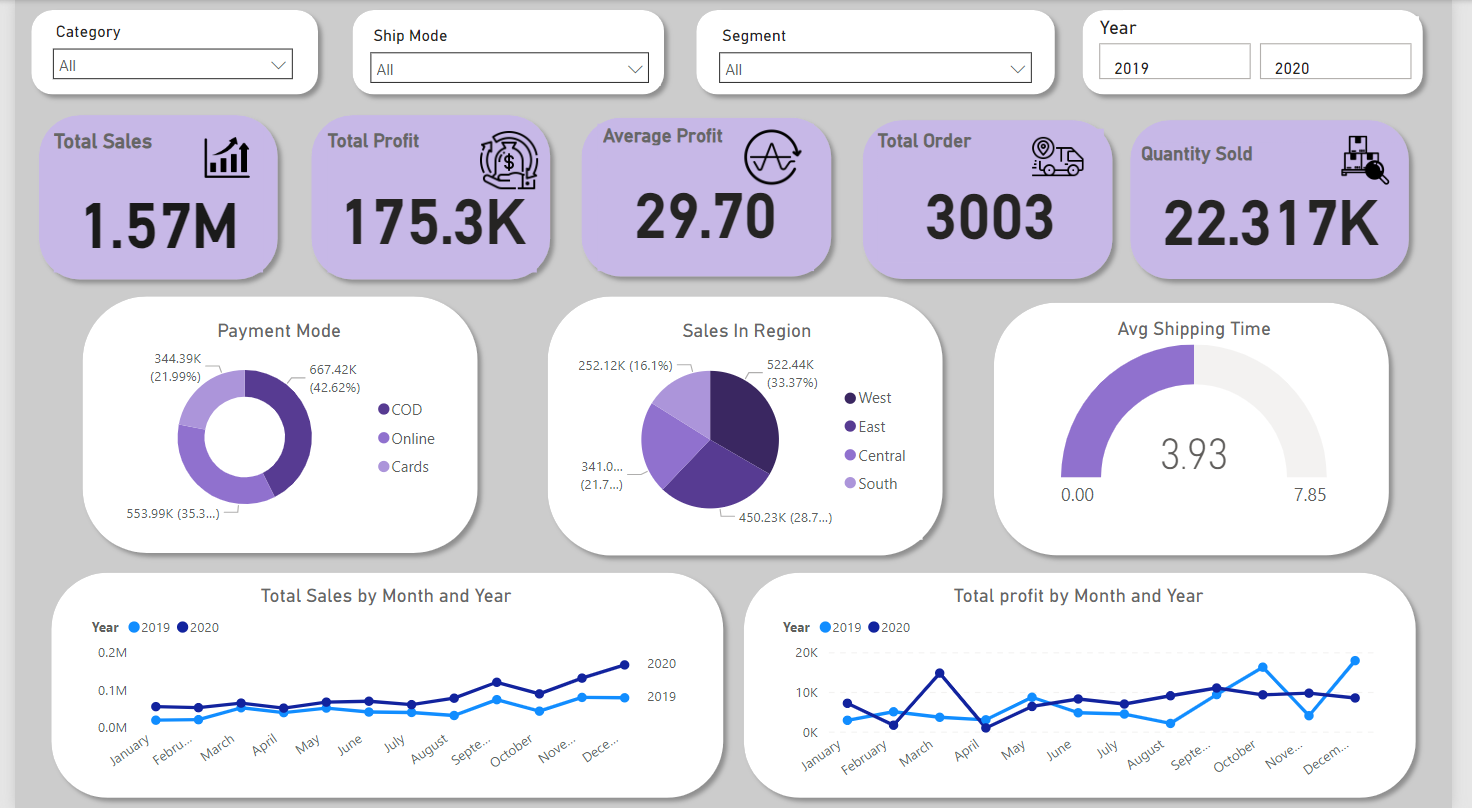

The dashboard page shown, as its layout file describes it:
{"tool":"powerbi","page":{"name":"dashboard ","canvas":[1280,720],"ordinal":0},"visuals":[{"type":"shape","box":[639.5,501.2,616.3,218.6],"z":0},{"type":"shape","box":[23.3,501.2,616.3,218.6],"z":1000},{"type":"shape","box":[862.8,260.5,369.8,243],"z":2000},{"type":"shape","box":[465.1,254.7,369.8,248.8],"z":3000},{"type":"shape","box":[51.2,254.7,369.8,246.5],"z":4000},{"type":"shape","box":[255.2,93.3,230.7,164.4],"z":5000},{"type":"shape","box":[495.7,95.7,240.5,159.5],"z":6000},{"type":"shape","box":[746,98.2,240.5,159.5],"z":7000},{"type":"shape","box":[984.1,98.2,266.3,159.5],"z":8000},{"type":"shape","box":[12.3,93.3,230.7,164.4],"z":9000},{"type":"shape","box":[941.9,0,320.9,93],"z":10000},{"type":"shape","box":[597.7,0,337.2,93],"z":11000},{"type":"shape","box":[291.9,0,295.3,93],"z":12000},{"type":"shape","box":[5.8,0,273.3,93],"z":13000},{"type":"slicer","fields":{"Values":["Sheet1.Category"]},"box":[23.3,14,233.7,61.6],"z":14000},{"type":"card","title":"Total Sales","fields":{"Values":["measures (2).Total Sales"]},"box":[34.4,114.1,186.5,127.6],"z":15000},{"type":"card","title":"Total Profit","fields":{"Values":["measures (2).Total profit"]},"box":[278.5,114.1,186.5,127.6],"z":16000},{"type":"card","title":"Average Profit","fields":{"Values":["measures (2).Avg Profit per Order"]},"box":[519,110.4,192.6,131.3],"z":17000},{"type":"lineChart","fields":{"Series":["Sheet1.Order Date.Variation.Date Hierarchy.Year"],"Category":["Sheet1.Order Date.Variation.Date Hierarchy.Month"],"Y":["measures (2).Total profit"]},"box":[679.1,519.8,536,183.7],"z":18000},{"type":"lineChart","fields":{"Series":["Sheet1.Order Date.Variation.Date Hierarchy.Year"],"Category":["Sheet1.Order Date.Variation.Date Hierarchy.Month"],"Y":["measures (2).Total Sales"]},"box":[64,519.8,533.7,177.9],"z":19000},{"type":"advancedSlicerVisual","fields":{"Values":["Sheet1.Order Date.Variation.Date Hierarchy.Year"]},"box":[960.5,14,289.5,61.6],"z":20000},{"type":"donutChart","title":" Payment Mode","fields":{"Category":["Sheet1.Payment Mode"],"Y":["measures (2).Total Sales"]},"box":[82.6,283.7,305.8,191.9],"z":21000},{"type":"slicer","fields":{"Values":["Sheet1.Ship Mode"]},"box":[305.8,17.4,268.6,58.1],"z":22000},{"type":"pieChart","title":"Sales In Region","fields":{"Category":["Sheet1.Region"],"Y":["Sum(Sheet1.Sales)"]},"box":[495.4,283.7,312.8,196.5],"z":23000},{"type":"slicer","fields":{"Values":["Sheet1.Segment"]},"box":[616.3,17.4,298.8,61.6],"z":24000},{"type":"card","title":"Total Order","fields":{"Values":["measures (2).Order Count"]},"box":[768.1,114.1,201.2,119],"z":25000},{"type":"card","title":"Quantity Sold","fields":{"Values":["measures (2).Quantity Sold"]},"box":[1002.5,126.4,229.4,105.5],"z":26000},{"type":"gauge","fields":{"Y":["measures (2).Avg Shipping Time"]},"box":[898.8,282.6,303.5,179.1],"z":27000},{"type":"image","box":[157,114.7,64.6,51.2],"z":28000},{"type":"image","box":[404.9,110.4,69.9,65],"z":29000},{"type":"image","box":[639.3,108,72.4,63.8],"z":30000},{"type":"image","box":[888.3,110.4,81,58.9],"z":31000},{"type":"image","box":[1171.8,114.1,60.1,56.4],"z":32000}]}

Visuals, with their boxes in screenshot pixels (x1, y1, x2, y2), scaled from the page's 1280x720 canvas onto the 1472x808 screenshot:
shape: (735, 562, 1444, 807)
shape: (27, 562, 736, 807)
shape: (992, 292, 1417, 565)
shape: (535, 286, 960, 565)
shape: (59, 286, 484, 562)
shape: (293, 105, 559, 289)
shape: (570, 107, 847, 286)
shape: (858, 110, 1134, 289)
shape: (1132, 110, 1438, 289)
shape: (14, 105, 279, 289)
shape: (1083, 0, 1452, 104)
shape: (687, 0, 1075, 104)
shape: (336, 0, 675, 104)
shape: (7, 0, 321, 104)
slicer - Sheet1.Category: (27, 16, 296, 85)
"Total Sales" card: (40, 128, 254, 271)
"Total Profit" card: (320, 128, 535, 271)
"Average Profit" card: (597, 124, 818, 271)
lineChart - Sheet1.Order Date.Variation.Date Hierarchy.Year x Sheet1.Order Date.Variation.Date Hierarchy.Month: (781, 583, 1397, 789)
lineChart - Sheet1.Order Date.Variation.Date Hierarchy.Year x Sheet1.Order Date.Variation.Date Hierarchy.Month: (74, 583, 687, 783)
advancedSlicerVisual - Sheet1.Order Date.Variation.Date Hierarchy.Year: (1105, 16, 1438, 85)
" Payment Mode" donutChart: (95, 318, 447, 534)
slicer - Sheet1.Ship Mode: (352, 20, 661, 85)
"Sales In Region" pieChart: (570, 318, 929, 539)
slicer - Sheet1.Segment: (709, 20, 1052, 89)
"Total Order" card: (883, 128, 1115, 262)
"Quantity Sold" card: (1153, 142, 1417, 260)
gauge - measures (2).Avg Shipping Time: (1034, 317, 1383, 518)
image: (181, 129, 255, 186)
image: (466, 124, 546, 197)
image: (735, 121, 818, 193)
image: (1022, 124, 1115, 190)
image: (1348, 128, 1417, 191)
